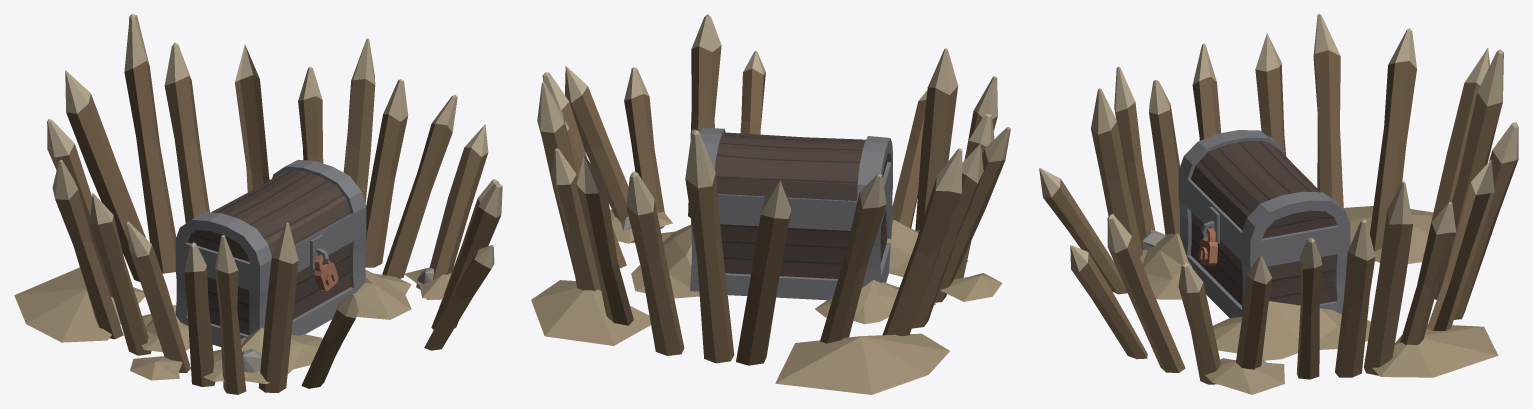
File: guardedTreasure.fbx
The picture shows the model from 3 angles, left to right: view 1: azimuth 30°, elevation 25°; view 2: azimuth 150°, elevation 25°; view 3: azimuth 270°, elevation 25°; orthographic projection. The views are drawn at different scales.
Visible parts, largest first — view 1: guardedTreasure; view 2: guardedTreasure; view 3: guardedTreasure.
Part boxes in pixels (left/top/right/bottom): guardedTreasure: left=14, top=14, right=502, bottom=394; guardedTreasure: left=531, top=14, right=1010, bottom=394; guardedTreasure: left=1039, top=14, right=1518, bottom=394.
Size of the model in its own units: 3.19 by 1.79 by 3.22.
